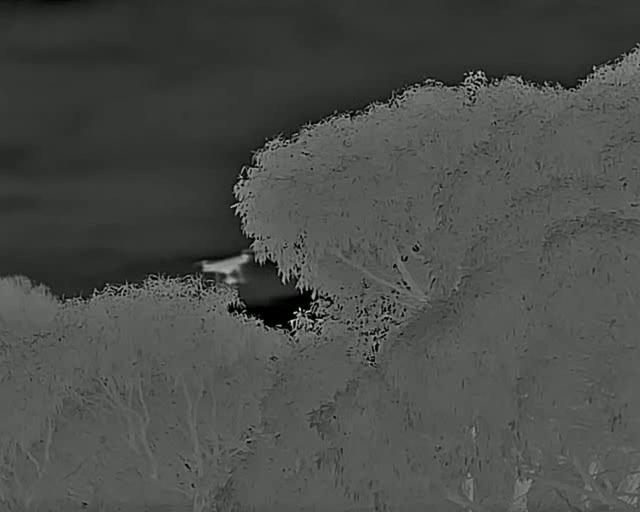DJI-Phantom: (197, 254, 253, 288)
